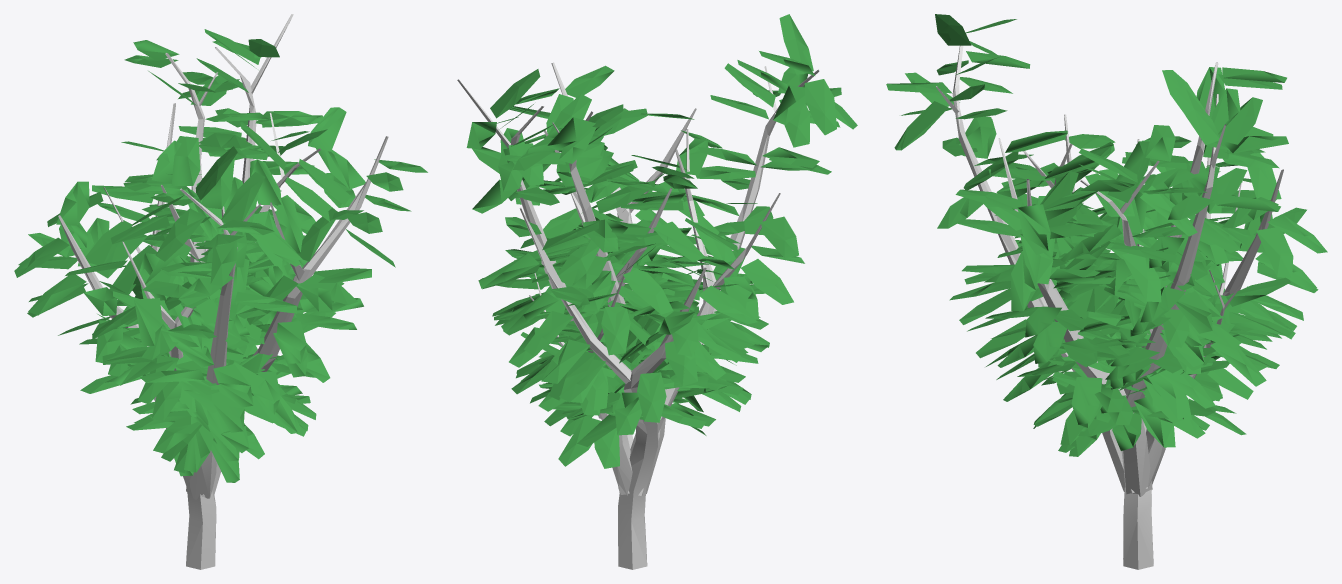
The model's file is Tree2.fbx.
3 renders of one model, left to right at view 1: azimuth 30°, elevation 25°; view 2: azimuth 150°, elevation 25°; view 3: azimuth 270°, elevation 25°, orthographic. The views are drawn at different scales.
Visible parts, largest first — view 1: Cube.001, LeafTree, STub; view 2: Cube.001, LeafTree, STub; view 3: Cube.001, LeafTree, STub.
Part boxes in pixels (x1,y1,x2,y2): Cube.001: (14, 29, 427, 482); LeafTree: (58, 14, 388, 401); STub: (166, 428, 221, 569); Cube.001: (466, 14, 857, 468); LeafTree: (457, 62, 819, 424); STub: (601, 418, 665, 569); Cube.001: (886, 14, 1327, 456); LeafTree: (936, 30, 1283, 413); STub: (1102, 418, 1165, 569).
Size of the model in its own units: 253 by 360 by 278.
